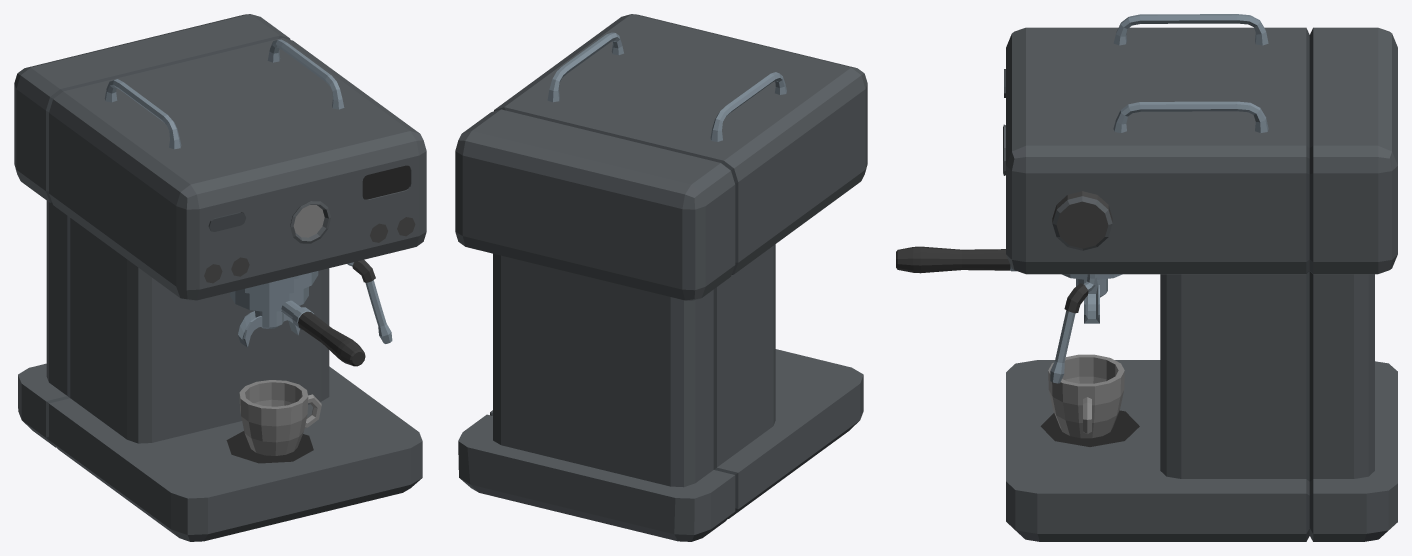
The model's file is SM_Props_Cafe_20.fbx.
3 views of the same model, side by side, from view 1: azimuth 30°, elevation 25°; view 2: azimuth 150°, elevation 25°; view 3: azimuth 270°, elevation 25° (orthographic). The views are drawn at different scales.
Parts seen in each view (by area): view 1: SM_Props_Cafe_20; view 2: SM_Props_Cafe_20; view 3: SM_Props_Cafe_20.
Part boxes in pixels (x1,y1,x2,y2): SM_Props_Cafe_20: (14, 14, 426, 541); SM_Props_Cafe_20: (455, 14, 867, 541); SM_Props_Cafe_20: (896, 14, 1397, 541).
Size of the model in its own units: 0.3391 by 0.4748 by 0.5126.
